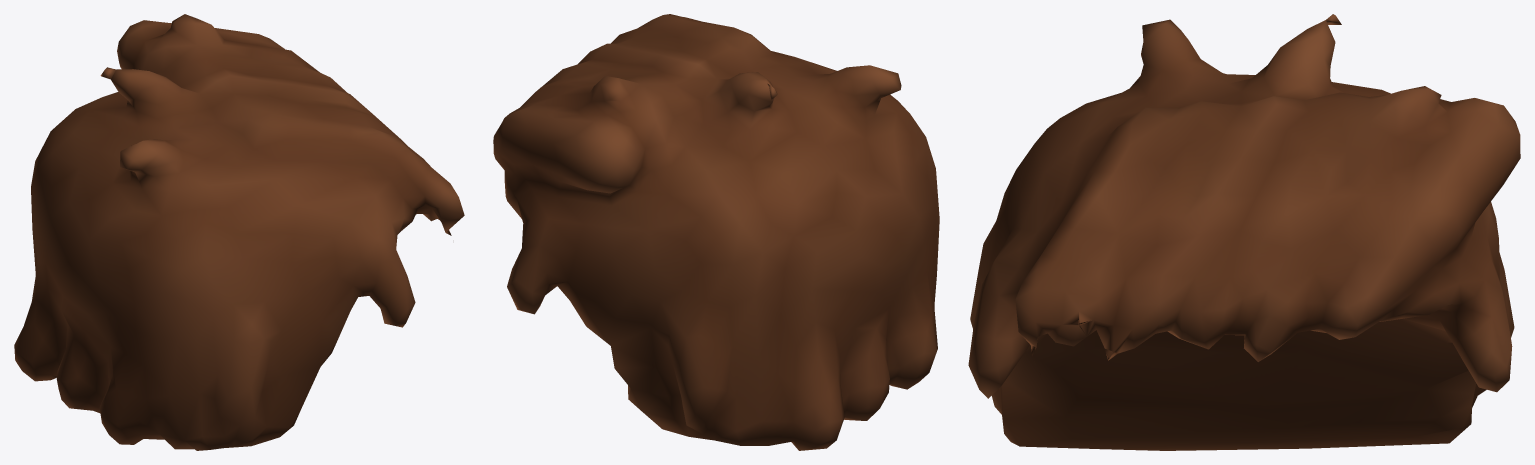
Rendered from hair.glb.
3 renders of one model, left to right at view 1: azimuth 30°, elevation 25°; view 2: azimuth 150°, elevation 25°; view 3: azimuth 270°, elevation 25°, orthographic. The views are drawn at different scales.
Visible parts, largest first — view 1: Hair; view 2: Hair; view 3: Hair.
Part boxes in pixels (x1,y1,x2,y2): Hair: [14, 14, 464, 450]; Hair: [493, 14, 939, 450]; Hair: [968, 14, 1520, 450].
Size of the model in its own units: 0.5924 by 0.5474 by 0.6541.
